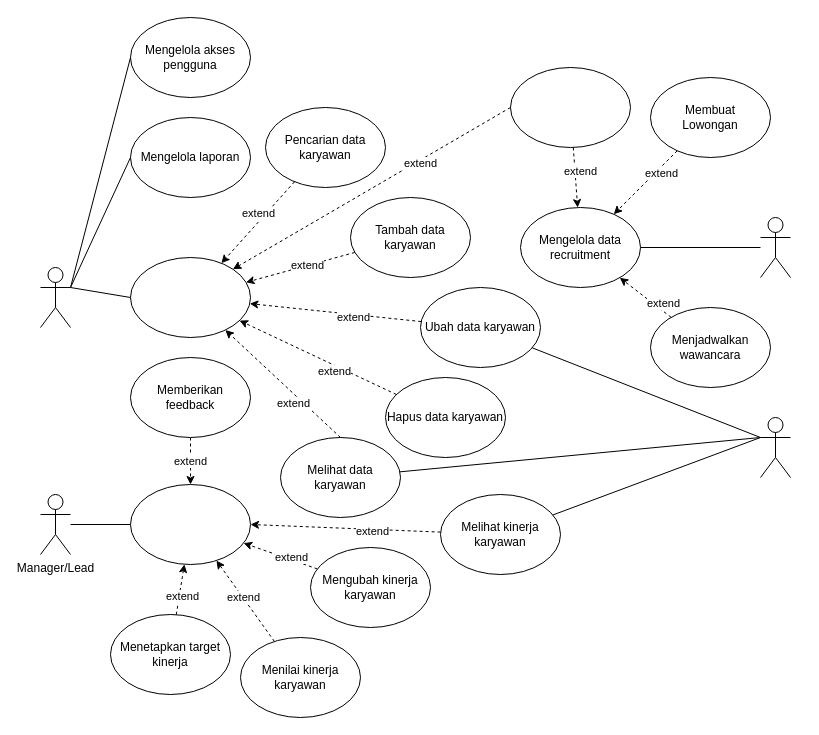
Image size: 819x735. Some labels were removed from this diagram. The shapes that lost their labels are listed below. From the top down, each one's centre as x and y in pixels, then its label:
At pixel 570 107: "Pencarian data calon karyawan".
At pixel 775 247: "Recruiter".
At pixel 55 297: "HR".
At pixel 190 297: "Mengelola data karyawan".
At pixel 775 447: "Karyawan".
At pixel 190 524: "Mengelola kinerja karyawan".
